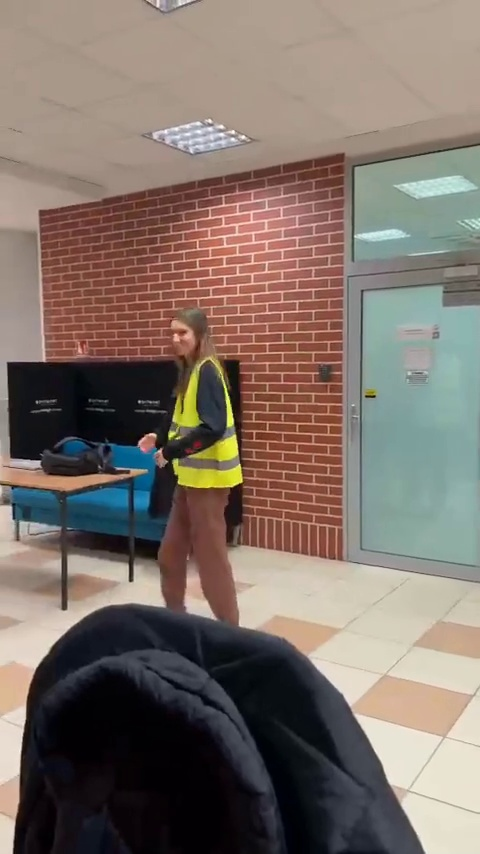vest: (139, 305, 276, 648)
